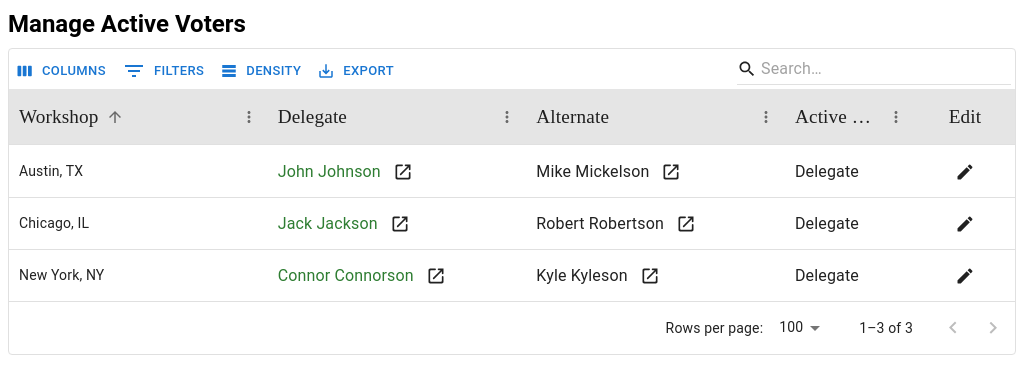
Test case: Successfully alerts when user is not a convention organizer
Click the menu item with test id "edit-active-voter-1": point(965, 172) 950,156 -> 980,186
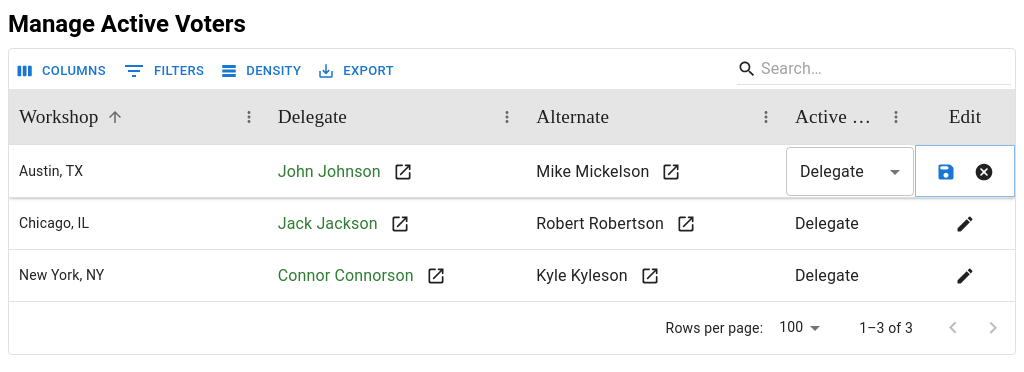
Click the menu item with test id "save-active-voter-1": point(946, 172) 931,156 -> 961,186
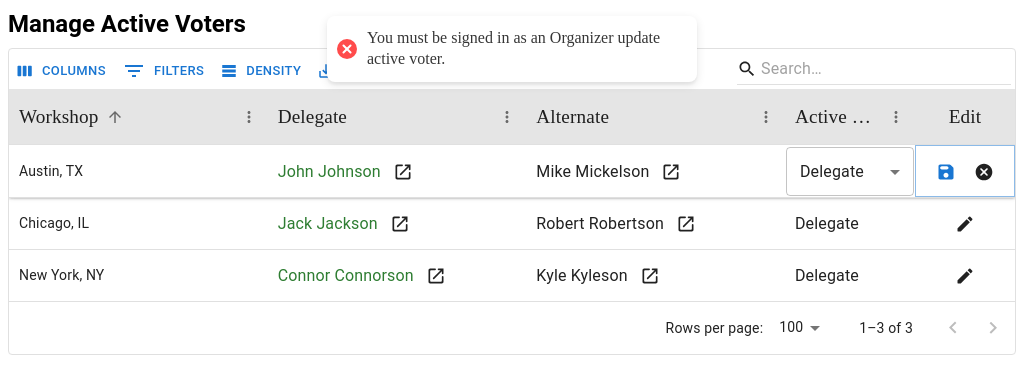
Expected: the text "You must be signed in as an Organizer update active voter." is shown, 367,28 -> 677,70
